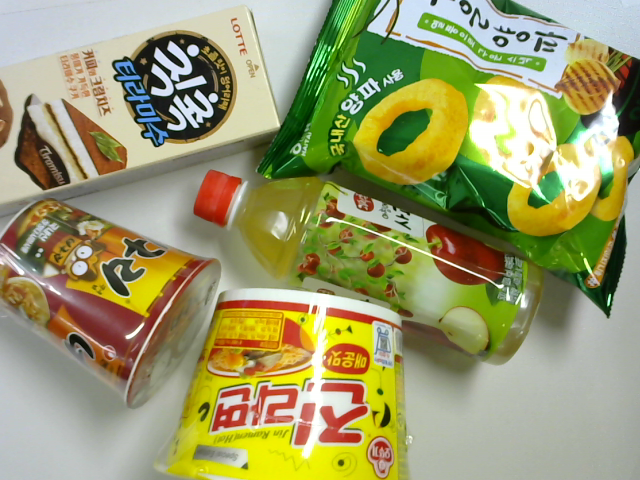Chicchok_Tiramisu: (1, 7, 286, 215)
Grilled_Onions: (251, 1, 640, 332)
Jinlamyeon_Hot_Taste_Large_Cup: (143, 281, 422, 480)
Morning_Apple_500ml: (179, 165, 552, 374)
Raccoon: (1, 202, 228, 408)
